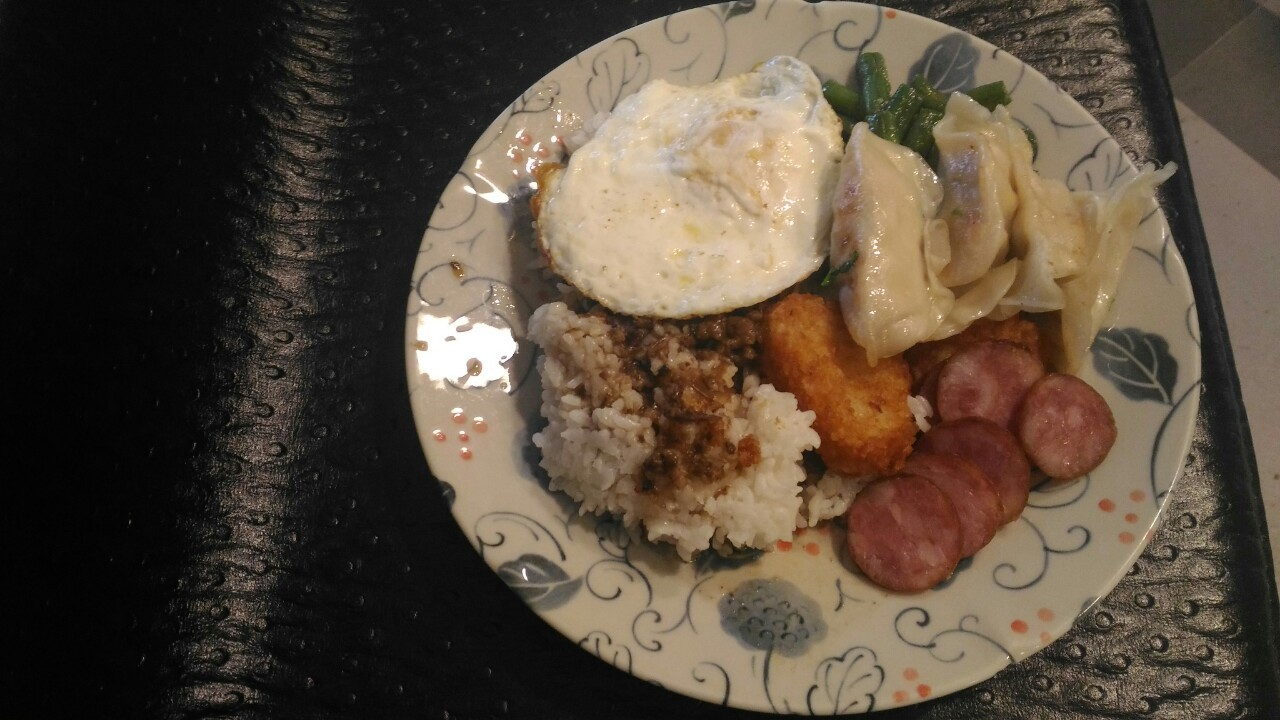chinese_sausage: (860, 333, 1119, 593)
fried_dumplings: (833, 101, 1152, 351)
fried_eggs: (533, 53, 845, 318)
rice: (529, 309, 804, 528)
triangle_hash_brown: (764, 293, 915, 476)
